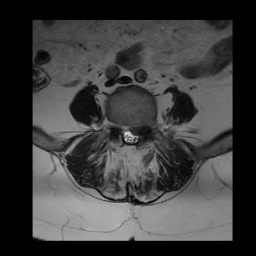CCS_normal: (127, 117, 134, 149)
LFS_stenosis: (140, 115, 147, 137)
LLS_normal: (134, 119, 140, 146)
RFS_stenosis: (114, 115, 121, 136)
RLS_normal: (121, 117, 127, 144)
